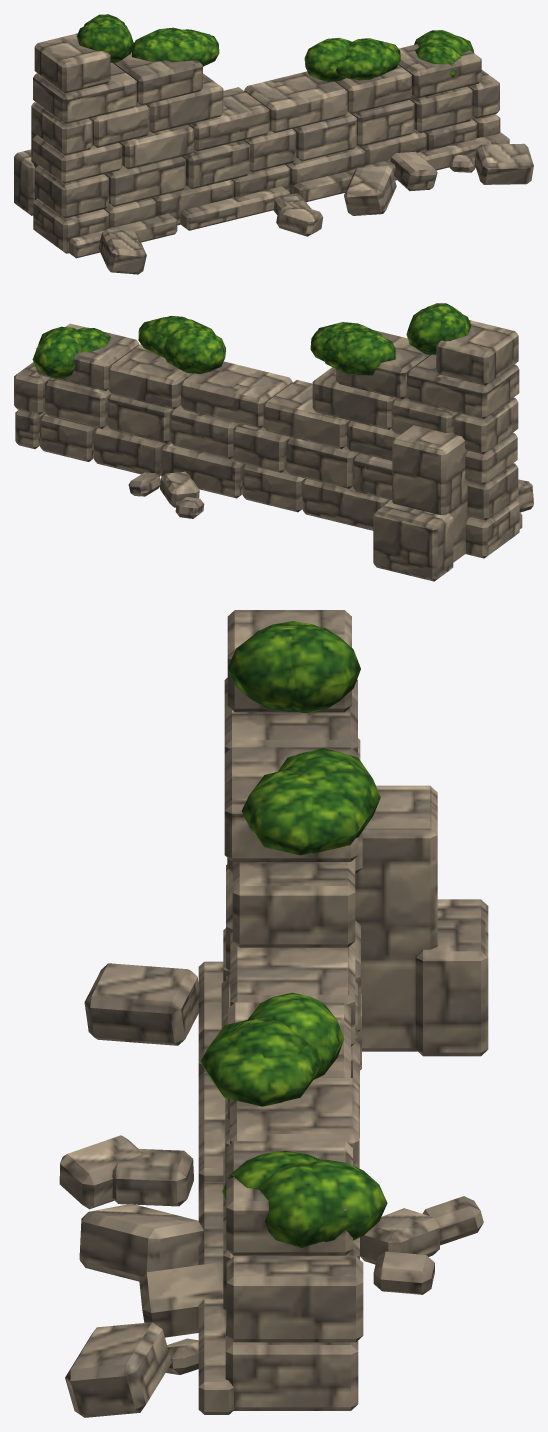
File: mapkit_wall_forest.fbx
The picture shows the model from 3 angles, top to bottom: view 1: azimuth 30°, elevation 25°; view 2: azimuth 150°, elevation 25°; view 3: azimuth 270°, elevation 25°; orthographic projection. The views are drawn at different scales.
Parts seen in each view (by area): view 1: Body; view 2: Body; view 3: Body.
Boxes of the visible parts, bbox=[...] form: Body: bbox=[14, 14, 533, 274]; Body: bbox=[14, 303, 533, 581]; Body: bbox=[59, 610, 488, 1417].
Bounding box in the file's own units: 1403 × 658 × 592.
1 material, 1 textured.
